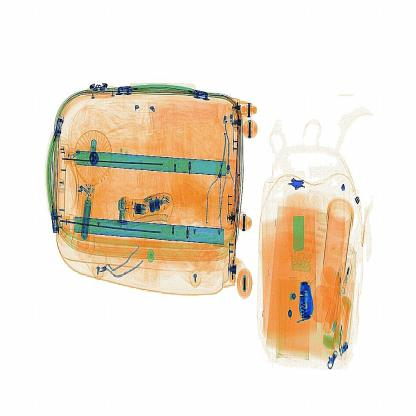scissors: (300, 279, 321, 325)
